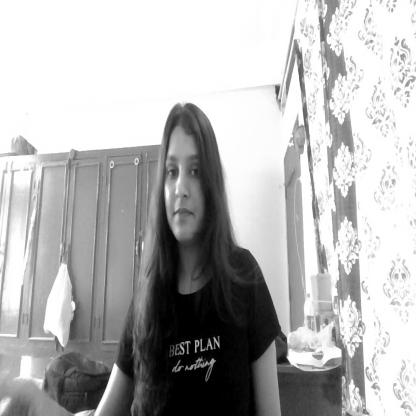Normal: (159, 104, 221, 254)
